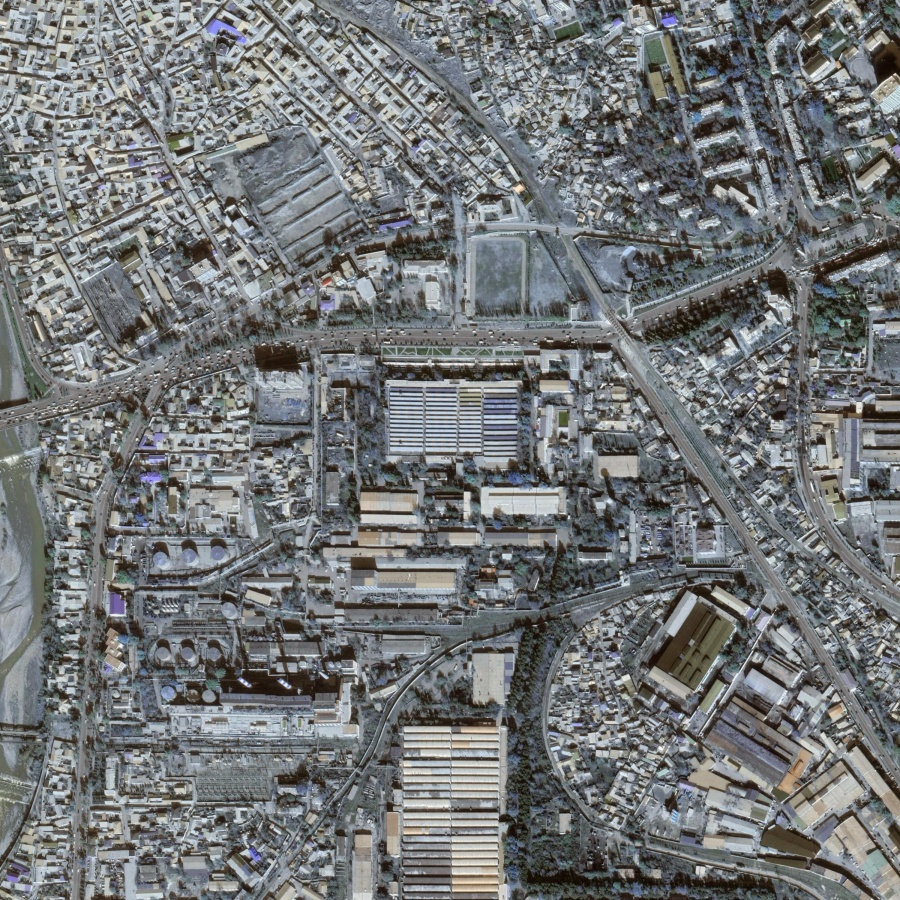PowerPlant: (143, 592, 364, 803)
